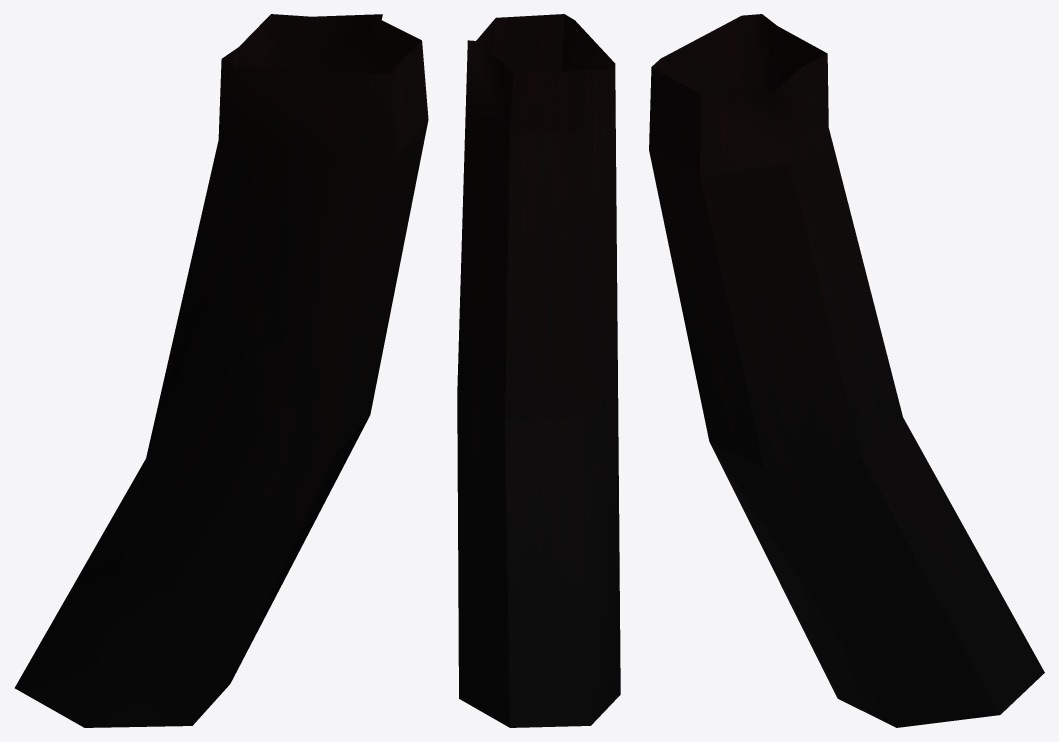
The model's file is jungle_palm_a3_low.glb.
The picture shows the model from 3 angles, left to right: view 1: azimuth 30°, elevation 25°; view 2: azimuth 150°, elevation 25°; view 3: azimuth 270°, elevation 25°; orthographic projection. The views are drawn at different scales.
Visible parts, largest first — view 1: jungle_palm_a3_low; view 2: jungle_palm_a3_low; view 3: jungle_palm_a3_low.
Boxes of the visible parts, <box> form: jungle_palm_a3_low: <box>14,14,428,727</box>; jungle_palm_a3_low: <box>457,14,620,727</box>; jungle_palm_a3_low: <box>649,14,1044,727</box>.
Size of the model in its own units: 0.7211 by 1.8 by 0.9488.
1 material, 1 textured.
